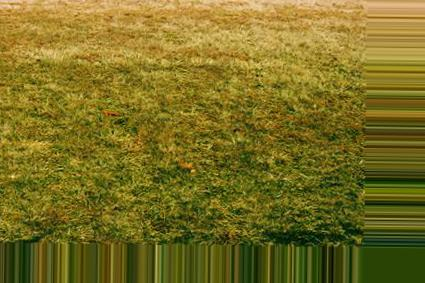patch: (102, 103, 178, 175), (16, 138, 98, 202), (123, 13, 268, 45), (12, 7, 113, 46), (282, 4, 343, 63), (181, 48, 265, 67)
